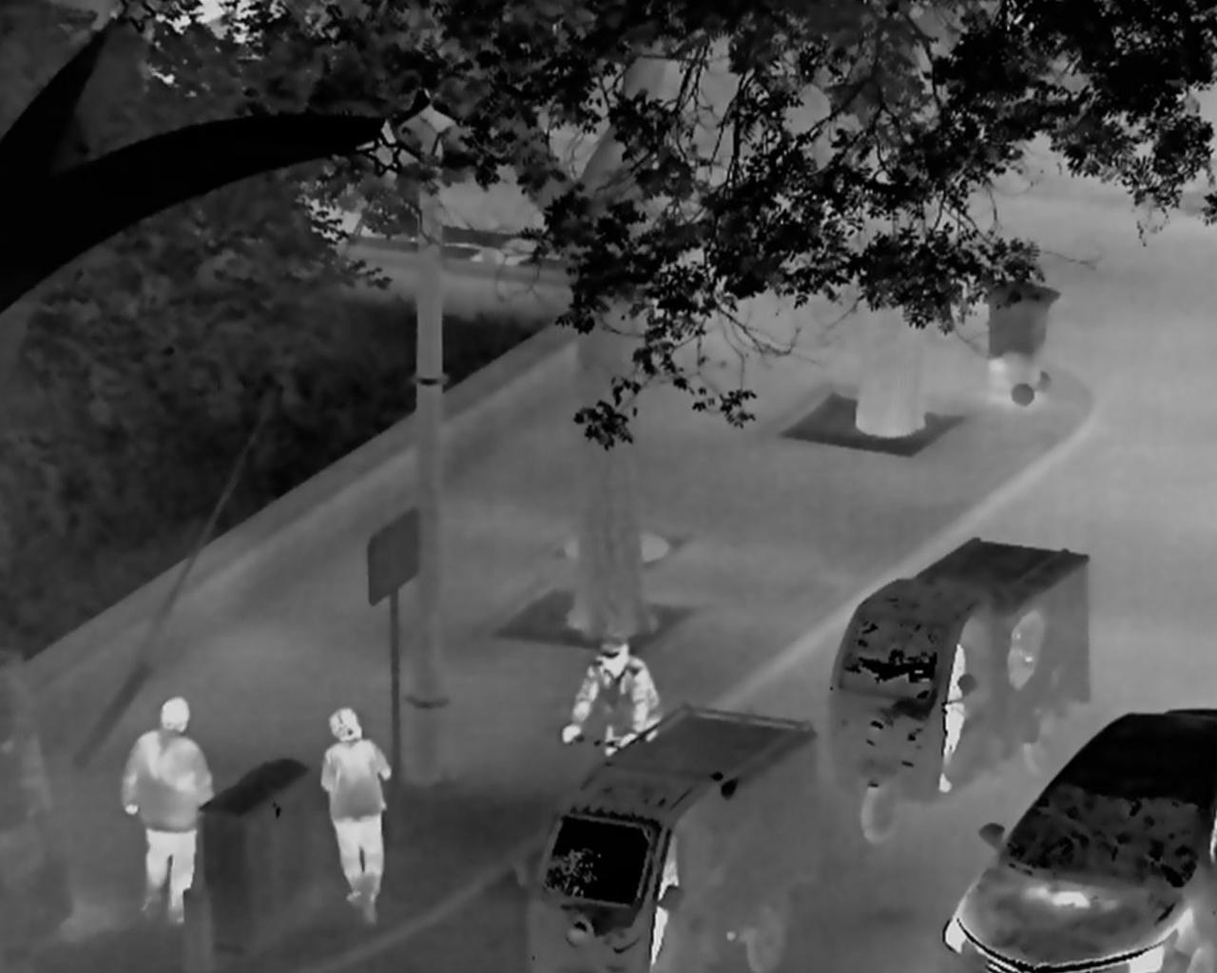person: (121, 696, 217, 926), (319, 706, 392, 925), (559, 631, 664, 758), (937, 641, 967, 793), (651, 830, 680, 966)
